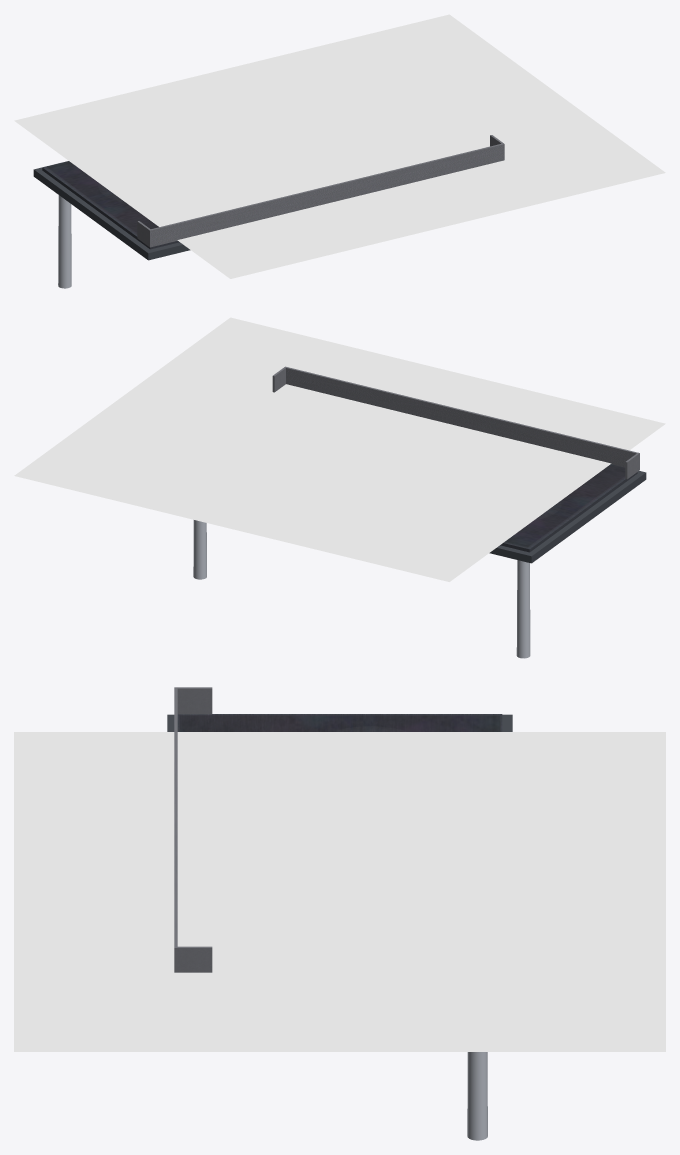
The model's file is grill.glb.
The picture shows the model from 3 angles, top to bottom: view 1: azimuth 30°, elevation 25°; view 2: azimuth 150°, elevation 25°; view 3: azimuth 270°, elevation 25°; orthographic projection. The views are drawn at different scales.
Visible parts, largest first — view 1: _MeshInstance3D_253, _MeshInstance3D_254, _MeshInstance3D_246, _MeshInstance3D_251, GrillVignette, _MeshInstance3D_245, GrillSeasoning, GrillStandoffRight; view 2: _MeshInstance3D_253, _MeshInstance3D_254, _MeshInstance3D_246, _MeshInstance3D_251, GrillVignette, GrillSeasoning, _MeshInstance3D_245, GrillStandoffRight, GrillStandoffLeft; view 3: _MeshInstance3D_253, _MeshInstance3D_254, _MeshInstance3D_251, GrillVignette, GrillSeasoning, GrillStandoffLeft, _MeshInstance3D_246, _MeshInstance3D_247, _MeshInstance3D_248.
Boxes of the visible parts, x1,y1,x2,y2 form: _MeshInstance3D_253: (55,14,665,267); _MeshInstance3D_254: (14,70,437,278); _MeshInstance3D_246: (149,143,504,247); _MeshInstance3D_251: (42,161,179,249); GrillVignette: (45,161,158,233); _MeshInstance3D_245: (33,161,190,260); GrillSeasoning: (48,162,157,228); GrillStandoffRight: (58,195,71,288); _MeshInstance3D_253: (14,317,624,572); _MeshInstance3D_254: (243,381,665,581); _MeshInstance3D_246: (284,366,639,470); _MeshInstance3D_251: (500,464,637,552); GrillVignette: (504,464,625,547); GrillSeasoning: (505,465,624,546); _MeshInstance3D_245: (489,471,646,563); GrillStandoffRight: (516,560,530,658); GrillStandoffLeft: (193,520,206,579); _MeshInstance3D_253: (14,761,665,1051); _MeshInstance3D_254: (14,732,665,883); _MeshInstance3D_251: (177,714,502,731); GrillVignette: (179,715,500,731); GrillSeasoning: (180,716,499,731); GrillStandoffLeft: (467,1052,487,1140); _MeshInstance3D_246: (174,687,177,972); _MeshInstance3D_247: (177,687,212,714); _MeshInstance3D_248: (177,946,212,972).
Bounding box in the file's own units: 2.38 × 0.645 × 1.91.
11 materials, 7 textured.
